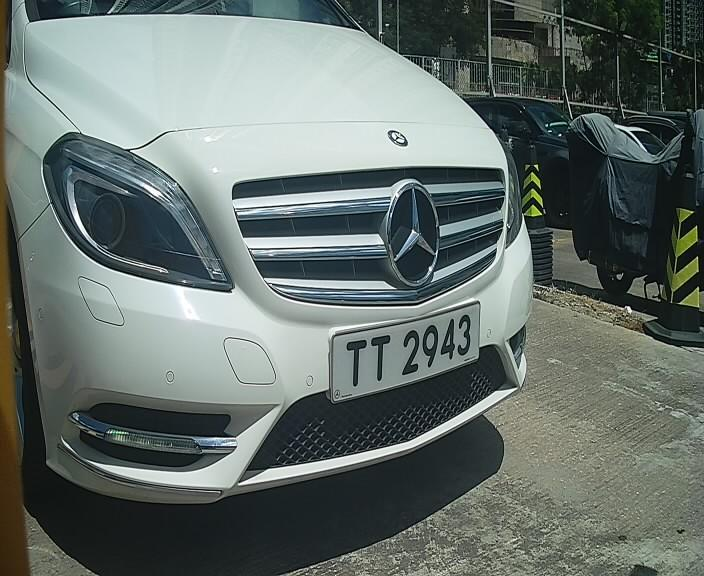License Plate: (331, 301, 481, 402)
